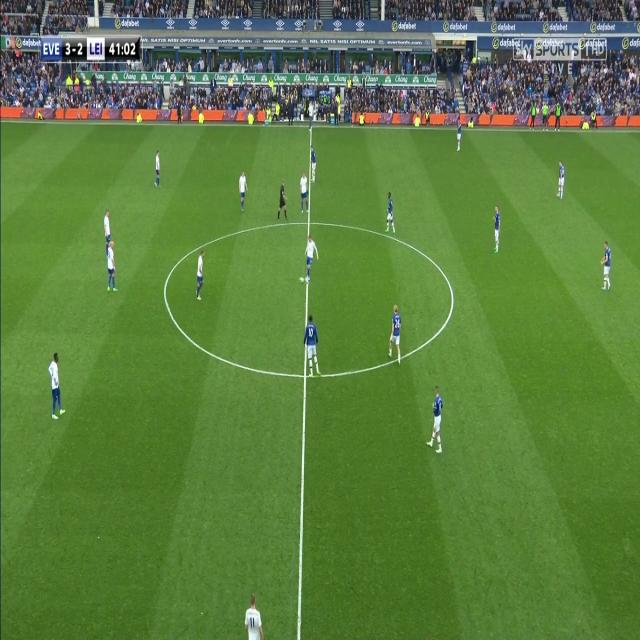Ball: (298, 273, 305, 286)
Player: (46, 347, 67, 425), (424, 383, 446, 457), (303, 313, 322, 379), (241, 593, 265, 640), (388, 303, 402, 367), (600, 238, 614, 290), (106, 242, 119, 296), (305, 233, 320, 277), (195, 246, 205, 303), (298, 171, 310, 218), (492, 203, 502, 258), (238, 168, 250, 213), (385, 191, 397, 235), (556, 157, 566, 203), (103, 208, 112, 252), (154, 147, 162, 193), (310, 145, 318, 189), (456, 115, 464, 154)
Referee: (277, 177, 290, 225), (176, 100, 183, 126)
